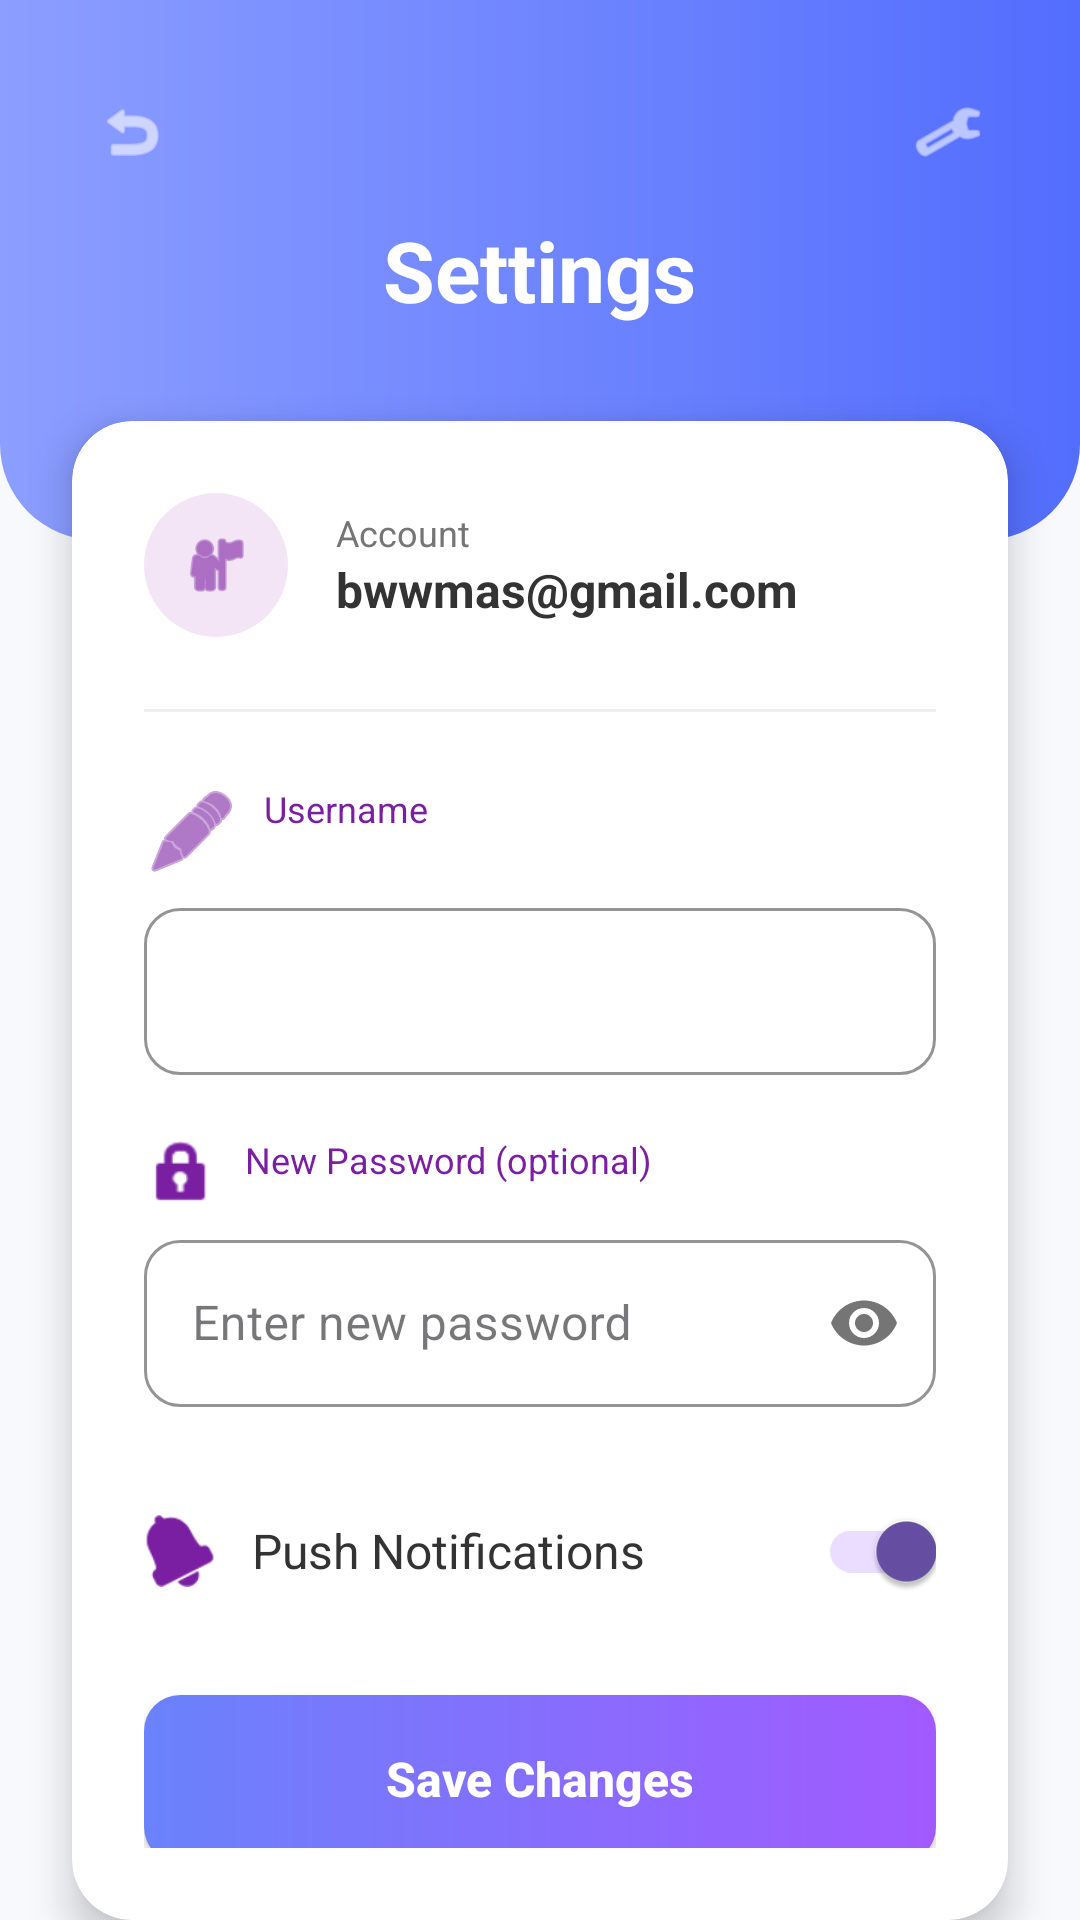

Icon bounding boxes for this 1080w x 1920h phone screenshot, format (x1, y1, x2, y2):
manage: (916, 107, 980, 157)
myplaces: (144, 493, 288, 637)
popup reminder: (146, 1515, 214, 1587)
revert: (107, 109, 159, 156)
